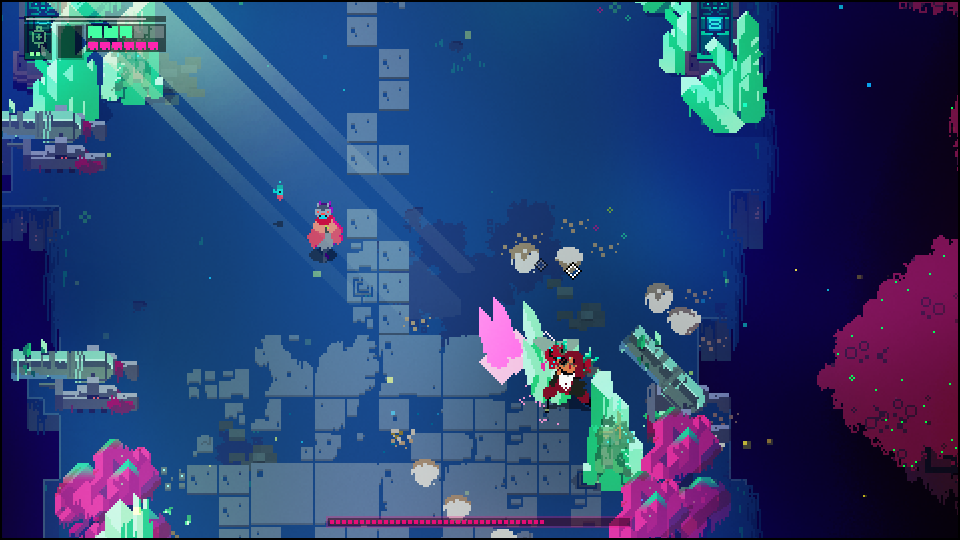hanged_crys: (473, 294, 528, 378), (521, 301, 546, 345)
hanged_man: (526, 342, 601, 411)
player: (305, 199, 343, 266)
